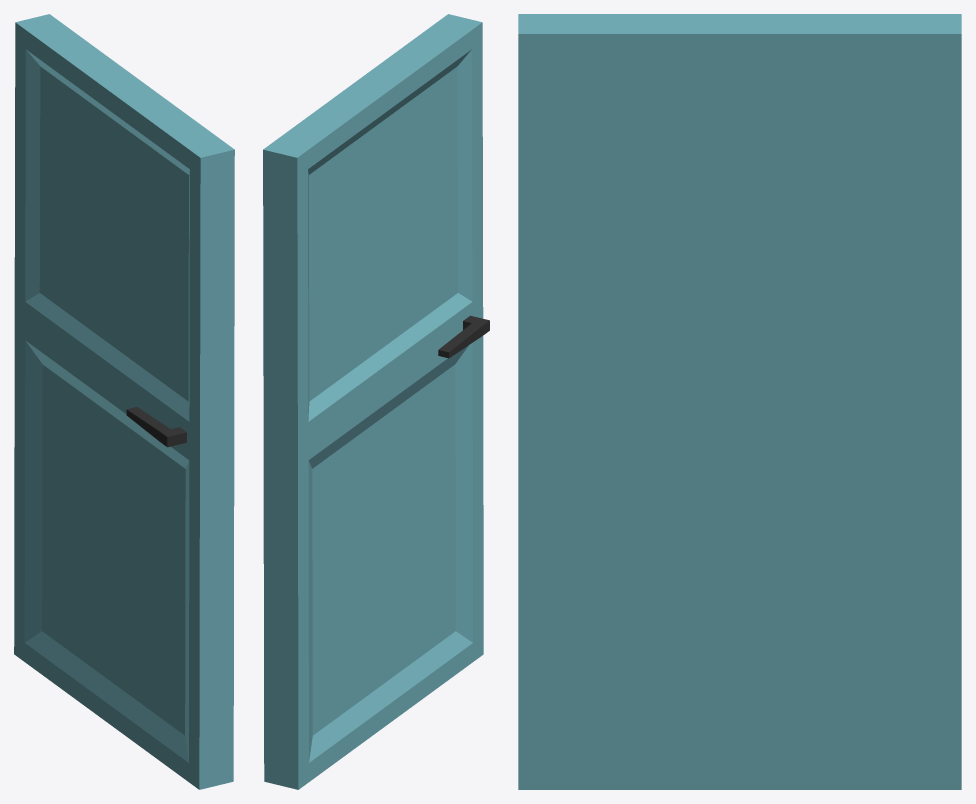
Rendered from B01_porte_2.fbx.
3 views of the same model, side by side, from view 1: azimuth 30°, elevation 25°; view 2: azimuth 150°, elevation 25°; view 3: azimuth 270°, elevation 25° (orthographic). The views are drawn at different scales.
Parts seen in each view (by area): view 1: B01_porte_2; view 2: B01_porte_2; view 3: B01_porte_2.
Part boxes in pixels (x1,y1,x2,y2): B01_porte_2: (14, 14, 234, 789); B01_porte_2: (263, 14, 489, 789); B01_porte_2: (518, 14, 961, 789).
Bounding box in the file's own units: 20.22 × 224 × 119.
